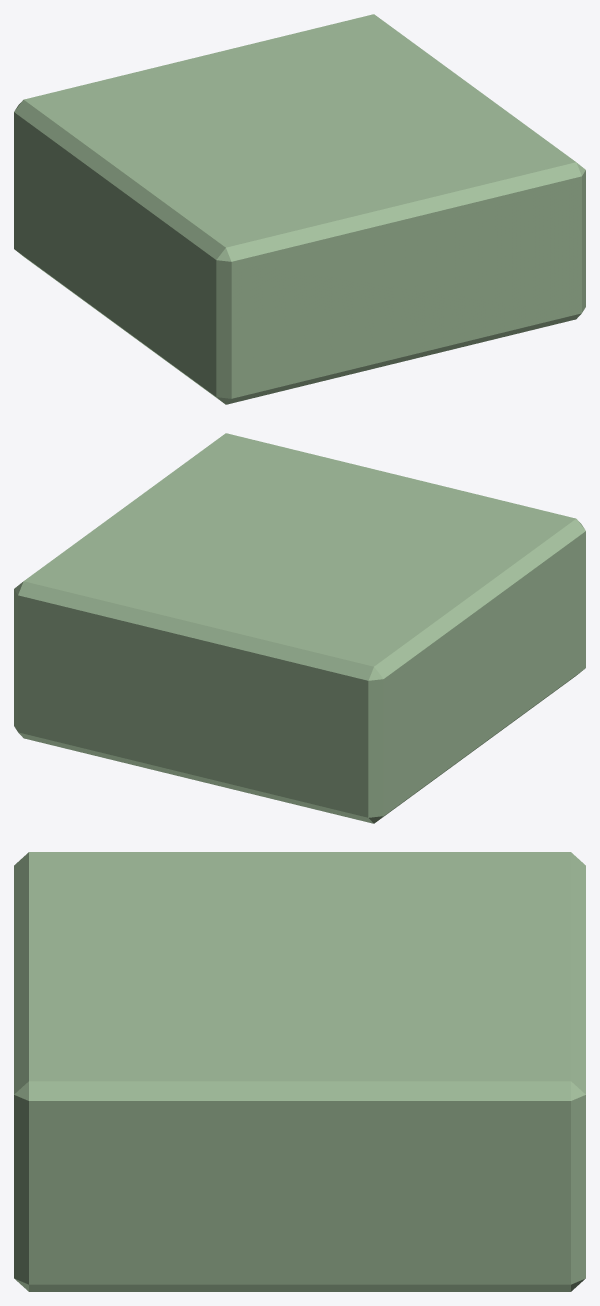
Rendered from path_block.glb.
3 renders of one model, top to bottom at view 1: azimuth 30°, elevation 25°; view 2: azimuth 150°, elevation 25°; view 3: azimuth 270°, elevation 25°, orthographic. The views are drawn at different scales.
Parts seen in each view (by area): view 1: Block; view 2: Block; view 3: Block.
Part boxes in pixels (box(x1,y1,x2,y2)): Block: box(14, 14, 585, 404); Block: box(14, 433, 585, 823); Block: box(14, 852, 585, 1291).
Size of the model in its own units: 1.92 by 0.78 by 1.92.
